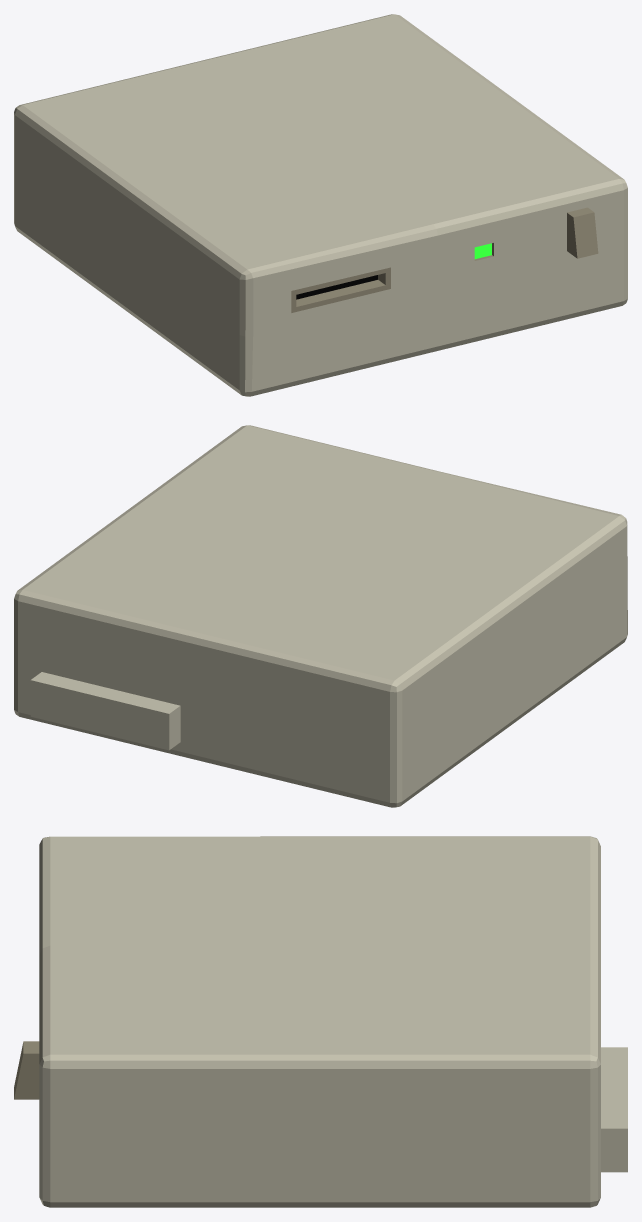
Rendered from GameAsset_PC_v02.fbx.
3 views of the same model, one above another, from view 1: azimuth 30°, elevation 25°; view 2: azimuth 150°, elevation 25°; view 3: azimuth 270°, elevation 25° (orthographic). The views are drawn at different scales.
Visible parts, largest first — view 1: PC; view 2: PC; view 3: PC.
Part boxes in pixels (x1,y1,x2,y2): PC: (14,14,627,396); PC: (14,425,627,807); PC: (14,836,627,1207).
Size of the model in its own units: 64.75 by 20.3 by 73.97.
